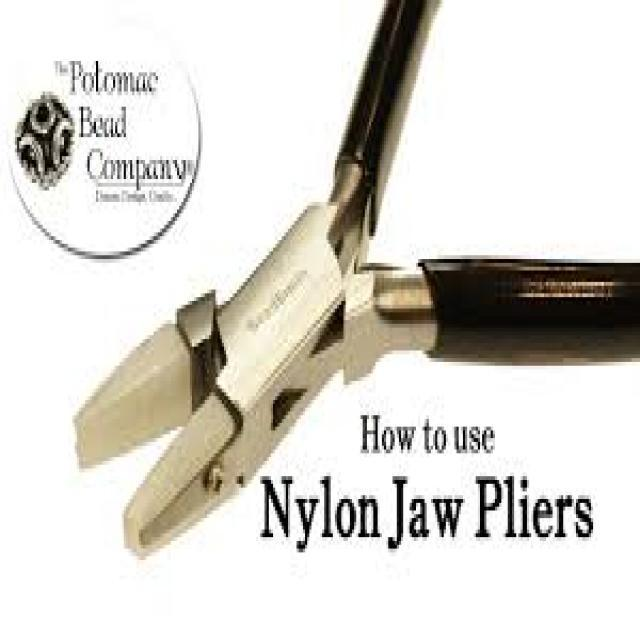pliers: (63, 0, 640, 566)
